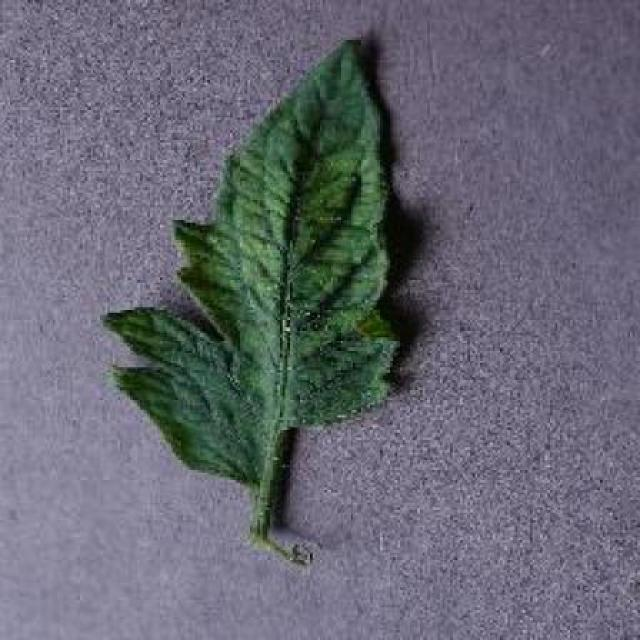Mosaic Virus: (104, 29, 404, 485)
